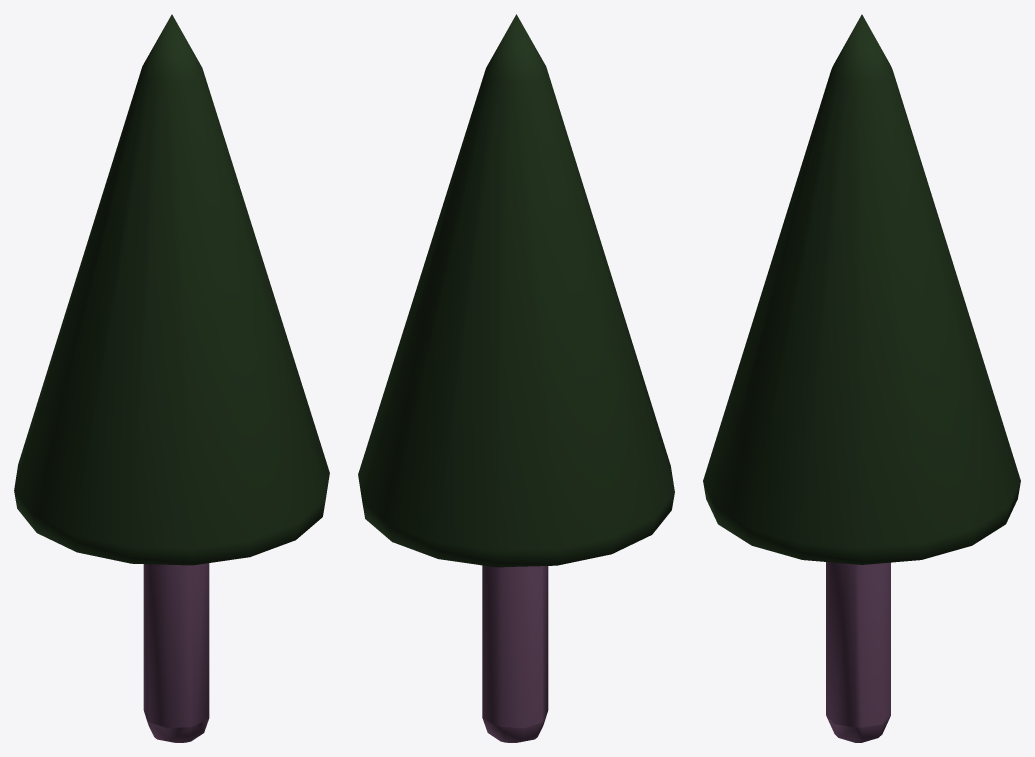
Rendered from alpine tree.obj.
3 views of the same model, side by side, from view 1: azimuth 30°, elevation 25°; view 2: azimuth 150°, elevation 25°; view 3: azimuth 270°, elevation 25° (orthographic).
Visible parts, largest first — view 1: Alpine_Tree_Cube.005; view 2: Alpine_Tree_Cube.005; view 3: Alpine_Tree_Cube.005.
Part boxes in pixels (bbox=[...]): Alpine_Tree_Cube.005: bbox=[14, 14, 329, 742]; Alpine_Tree_Cube.005: bbox=[358, 14, 674, 742]; Alpine_Tree_Cube.005: bbox=[703, 14, 1020, 742].
Size of the model in its own units: 0.6852 by 1.72 by 0.6852.
